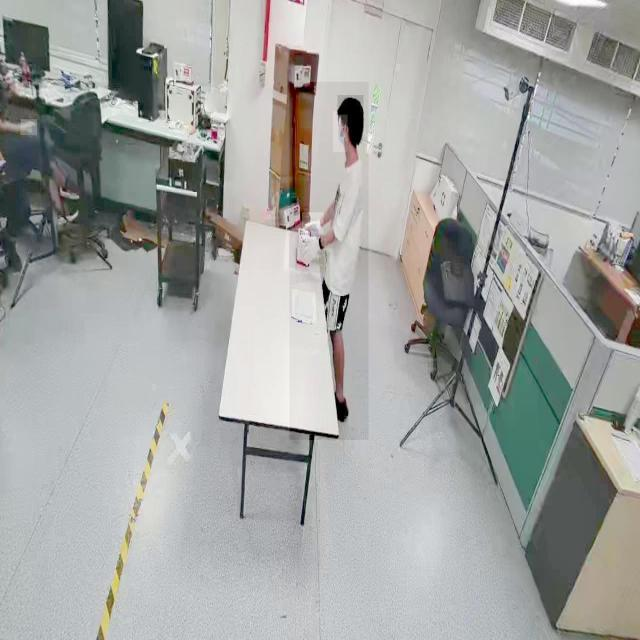hand_glove: (296, 233, 324, 283), (333, 111, 347, 152), (302, 212, 324, 238)
hand_noglove: (20, 119, 38, 136)
head_nohelmet: (338, 95, 364, 116)
person: (289, 82, 369, 441)
